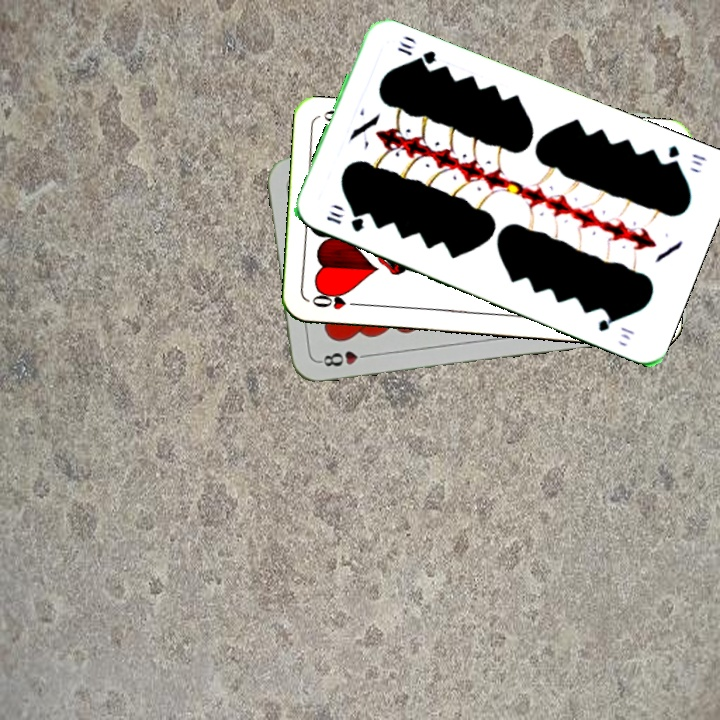G10: (662, 141, 710, 171), (322, 206, 367, 235)
H8: (315, 347, 374, 370)
HO: (308, 290, 366, 312)
